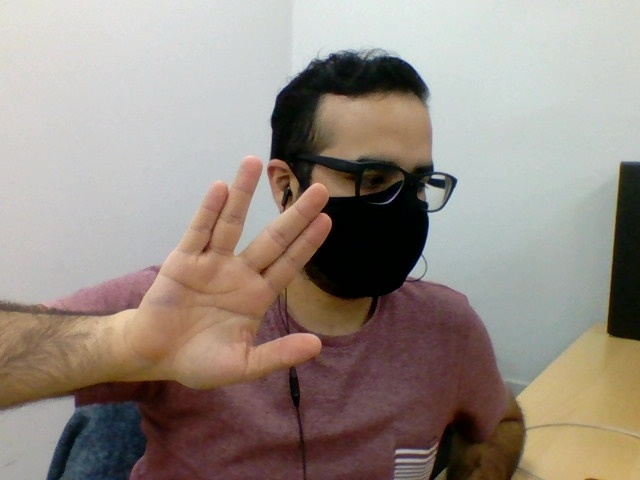LiveLong: (131, 155, 334, 391)
